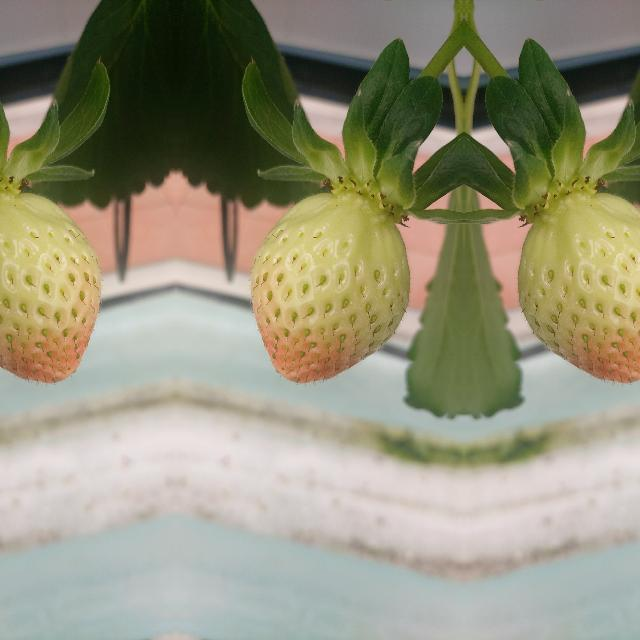Health_50: (250, 193, 408, 383), (517, 193, 640, 383), (0, 193, 100, 383)
